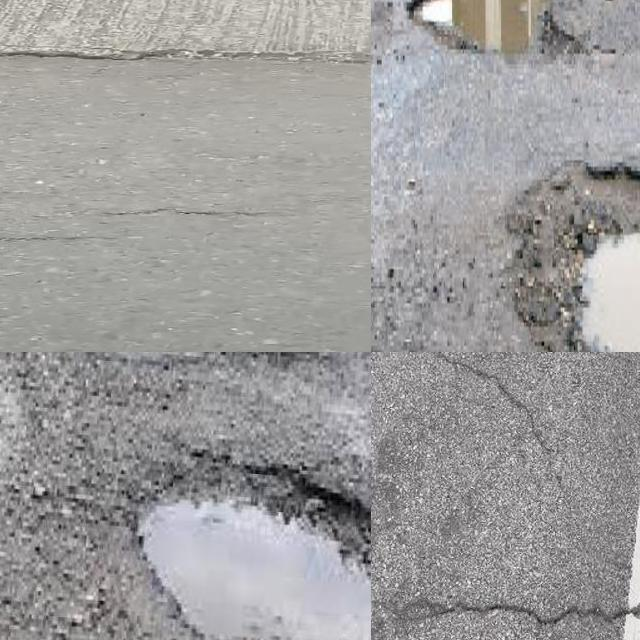Lubang: (129, 465, 371, 640), (511, 162, 640, 352), (409, 0, 640, 56), (238, 352, 332, 380)
Melintang: (394, 352, 596, 507), (371, 589, 640, 636), (0, 228, 100, 250)
